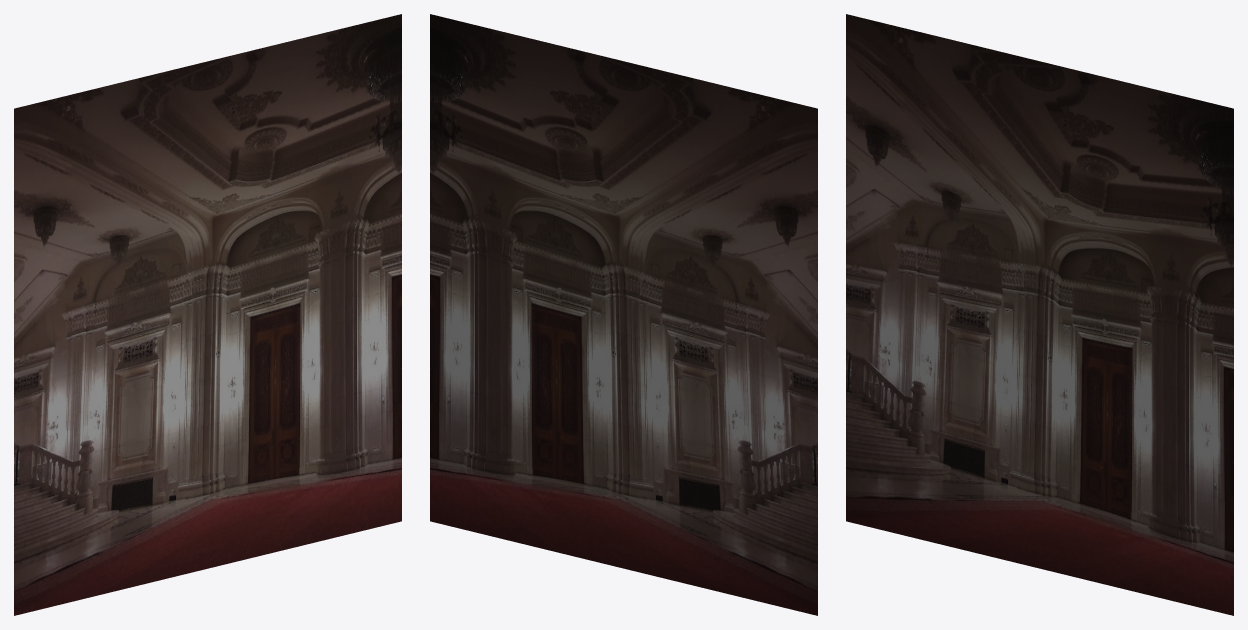
3 views of the same model, side by side, from view 1: azimuth 30°, elevation 25°; view 2: azimuth 150°, elevation 25°; view 3: azimuth 330°, elevation 25° (orthographic).
Parts seen in each view (by area): view 1: node-0; view 2: node-0; view 3: node-0.
Part boxes in pixels (x1=…): node-0: x1=14, y1=14, x2=401, y2=615; node-0: x1=430, y1=14, x2=817, y2=615; node-0: x1=846, y1=14, x2=1233, y2=615.
Size of the model in its own units: 381 by 476 by 0.
1 material, 1 textured.
